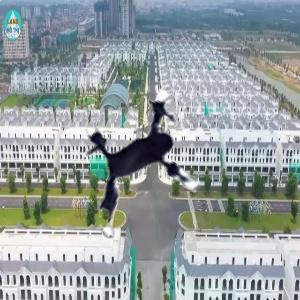drone: (57, 74, 244, 261)
